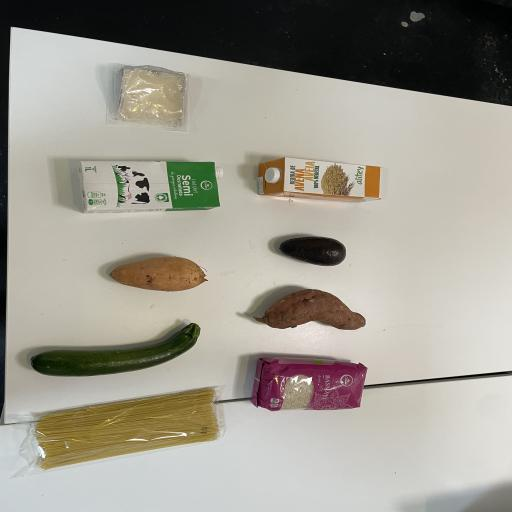avocado: (268, 233, 352, 271)
courgette: (22, 320, 206, 385)
cured_goat_cheese: (106, 63, 198, 132)
milk: (68, 159, 228, 215)
oat_milk: (253, 156, 385, 208)
rice: (242, 350, 371, 416)
spaghetti: (20, 384, 227, 474)
sweet_potato: (242, 286, 372, 341), (103, 253, 208, 297)
